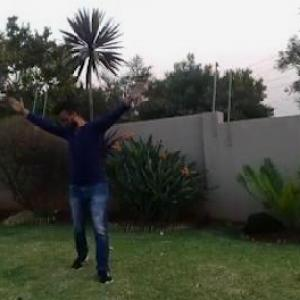takeoff: (6, 82, 146, 285)
